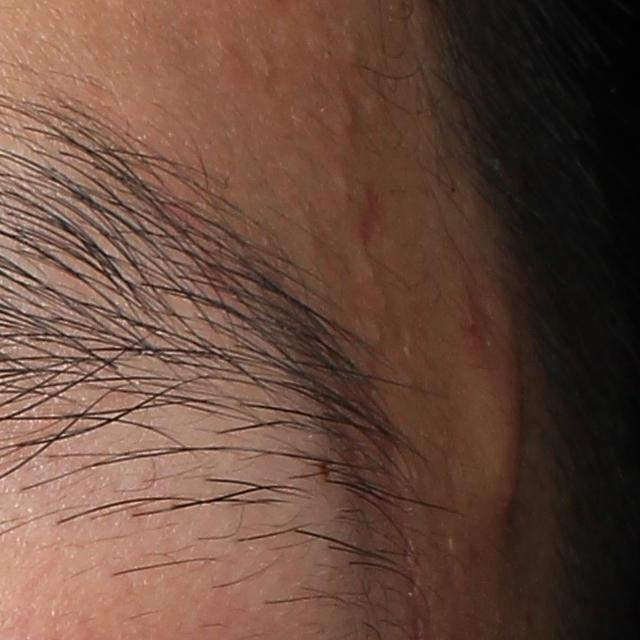comedo: (336, 173, 351, 199)
